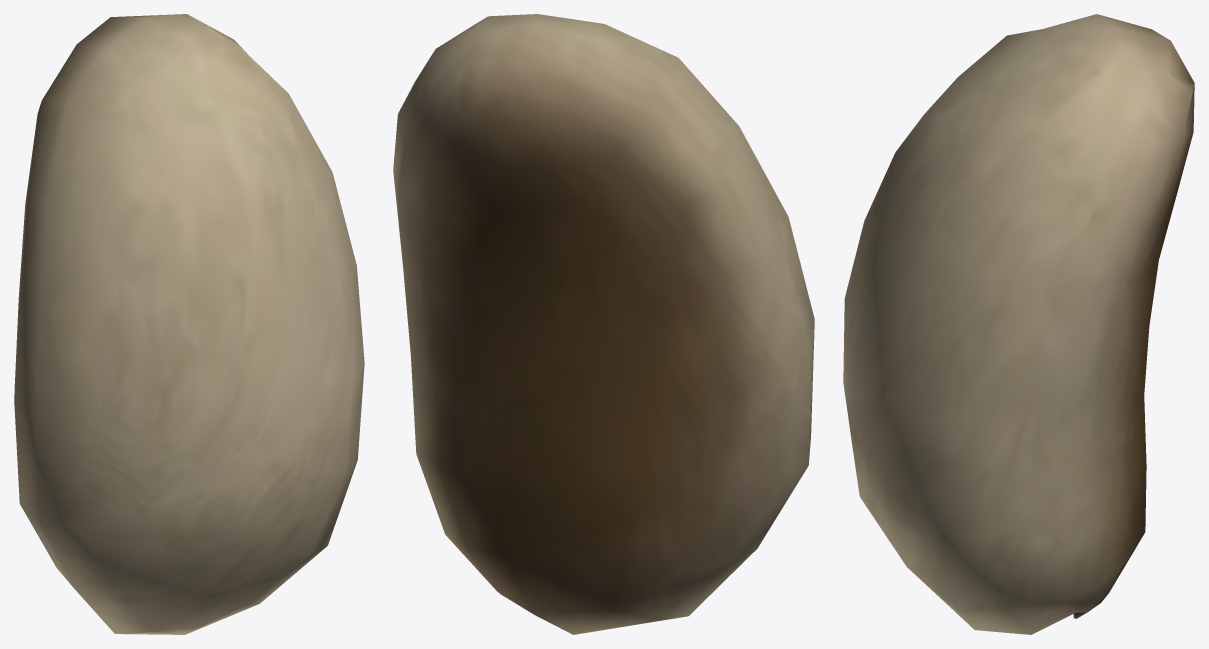
The model's file is Patella.glb.
3 renders of one model, left to right at view 1: azimuth 30°, elevation 25°; view 2: azimuth 150°, elevation 25°; view 3: azimuth 270°, elevation 25°, orthographic. The views are drawn at different scales.
Visible parts, largest first — view 1: Patella_Left1:Group30471; view 2: Patella_Left1:Group30471; view 3: Patella_Left1:Group30471.
Part boxes in pixels (x1,y1,x2,y2): Patella_Left1:Group30471: (14,14,364,634); Patella_Left1:Group30471: (393,14,814,634); Patella_Left1:Group30471: (843,14,1194,634).
Bounding box in the file's own units: 10.06 × 16.8 × 8.86.
Materials: 1 (1 with a texture image).
